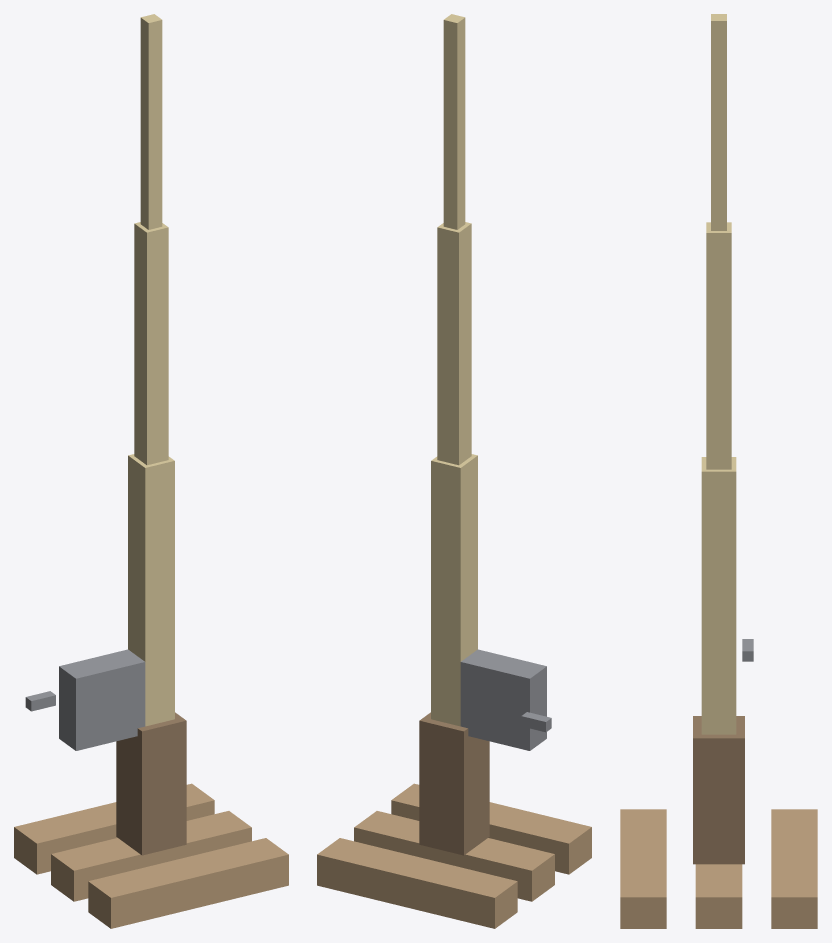
The model's file is 35-Mineria_cana_pescar.glb.
The picture shows the model from 3 angles, left to right: view 1: azimuth 30°, elevation 25°; view 2: azimuth 150°, elevation 25°; view 3: azimuth 270°, elevation 25°; orthographic projection.
Parts seen in each view (by area): view 1: SM_Cana_Vara_NOFUNDIR, SM_Cana_Basa_NOFUNDIR, SM_Cana_Mango_NOFUNDIR, SM_Cana_Carrete_NOFUNDIR; view 2: SM_Cana_Vara_NOFUNDIR, SM_Cana_Basa_NOFUNDIR, SM_Cana_Mango_NOFUNDIR, SM_Cana_Carrete_NOFUNDIR; view 3: SM_Cana_Vara_NOFUNDIR, SM_Cana_Basa_NOFUNDIR, SM_Cana_Mango_NOFUNDIR.
Part boxes in pixels (bbox=[...]): SM_Cana_Vara_NOFUNDIR: bbox=[128, 14, 174, 726]; SM_Cana_Basa_NOFUNDIR: bbox=[14, 783, 288, 928]; SM_Cana_Mango_NOFUNDIR: bbox=[116, 712, 186, 855]; SM_Cana_Carrete_NOFUNDIR: bbox=[25, 649, 145, 750]; SM_Cana_Vara_NOFUNDIR: bbox=[431, 14, 477, 726]; SM_Cana_Basa_NOFUNDIR: bbox=[317, 783, 591, 928]; SM_Cana_Mango_NOFUNDIR: bbox=[419, 712, 489, 855]; SM_Cana_Carrete_NOFUNDIR: bbox=[460, 649, 551, 750]; SM_Cana_Vara_NOFUNDIR: bbox=[701, 14, 736, 734]; SM_Cana_Basa_NOFUNDIR: bbox=[620, 809, 817, 928]; SM_Cana_Mango_NOFUNDIR: bbox=[693, 716, 744, 864].
Bounding box in the file's own units: 0.4 × 1.65 × 0.34.
